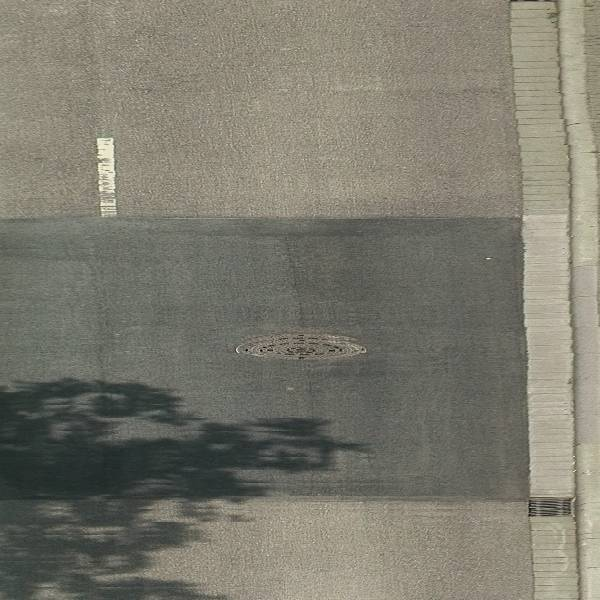road_damage: (26, 196, 514, 237)
